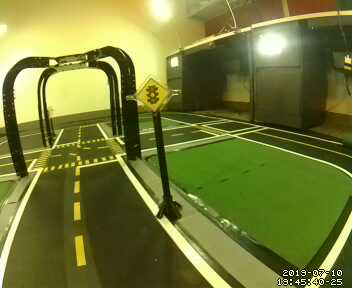Traffic light sign: (139, 76, 169, 113)
